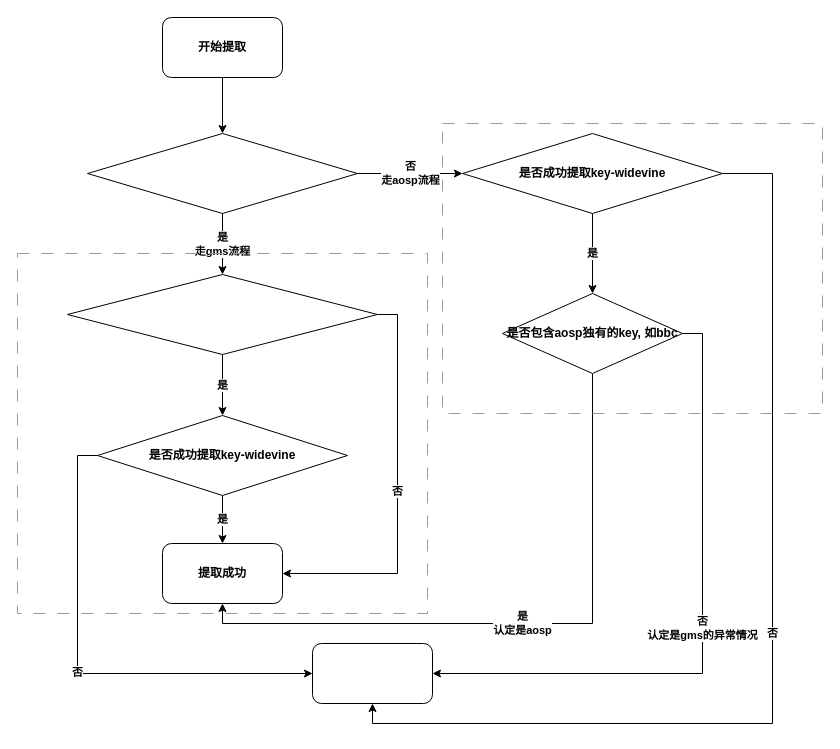
Image size: 840x749. Some labels were removed from this diagram. Here are the shapes that lost their labels. From the top down, the box of each, then its label:
(86, 132, 358, 214): 是否成功提取key-mint?
(66, 274, 378, 354): UI界面是否勾选key-widevine
(312, 642, 432, 704): 提取失败
